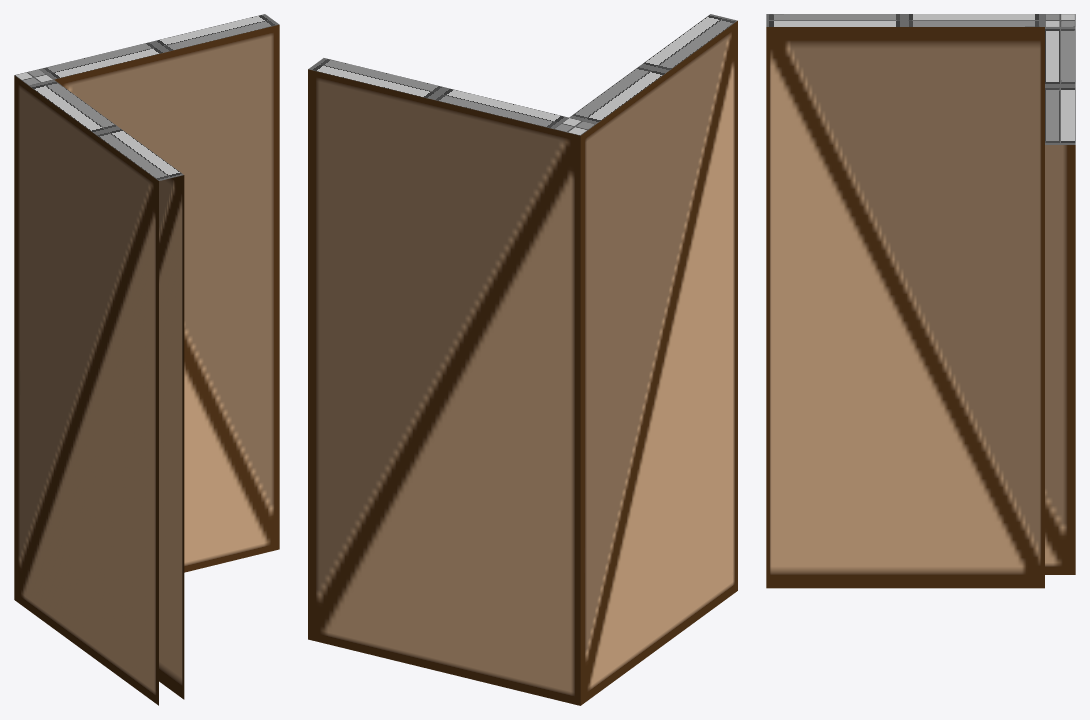
The model's file is LWall.fbx.
The picture shows the model from 3 angles, left to right: view 1: azimuth 30°, elevation 25°; view 2: azimuth 150°, elevation 25°; view 3: azimuth 270°, elevation 25°; orthographic projection. The views are drawn at different scales.
Parts seen in each view (by area): view 1: LWall; view 2: LWall; view 3: LWall.
Boxes of the visible parts, x1,y1,x2,y2 form: LWall: (14, 14, 279, 705); LWall: (308, 14, 737, 705); LWall: (766, 14, 1075, 588).
Bounding box in the file's own units: 20000 × 40000 × 20000.
